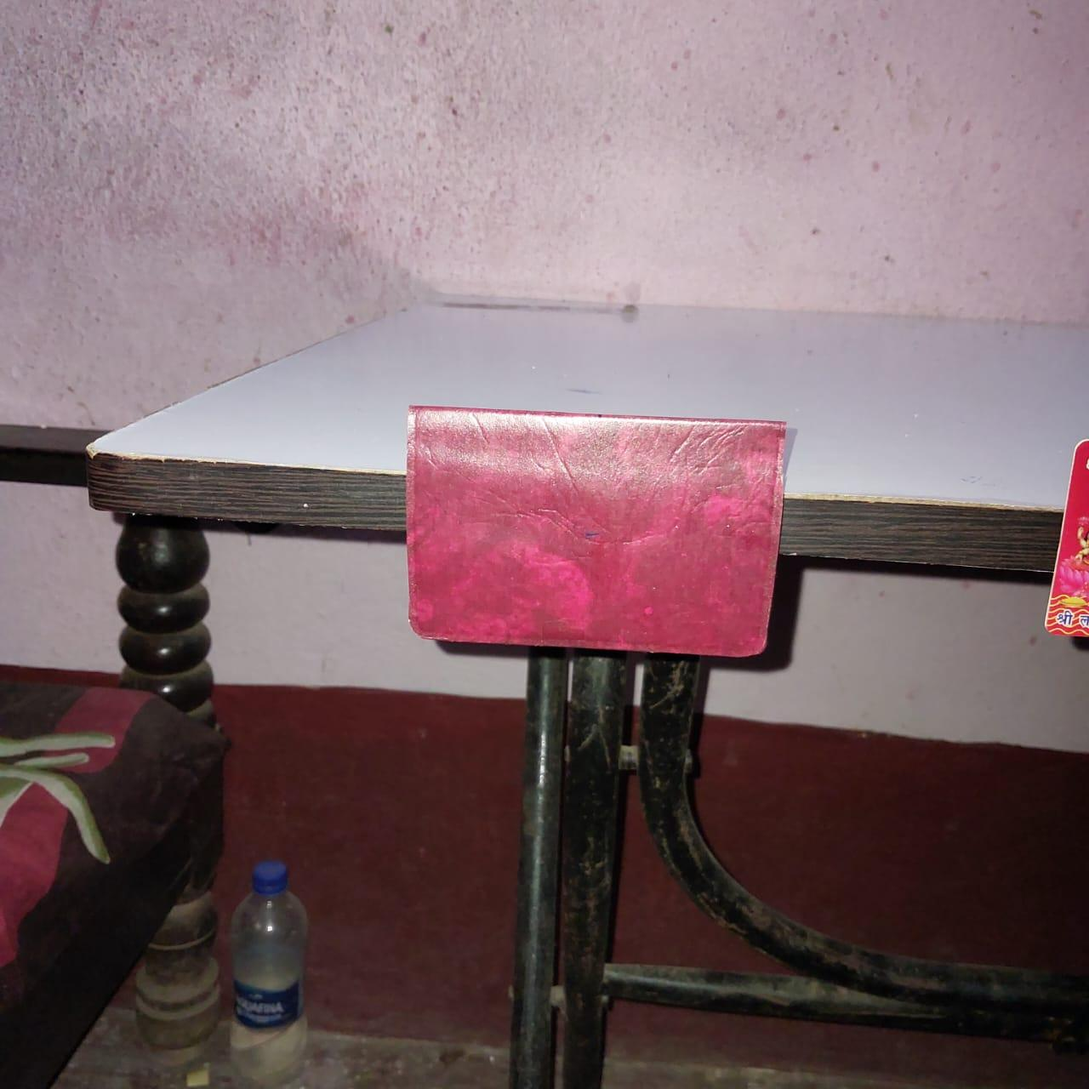wallet: (403, 412, 791, 653)
